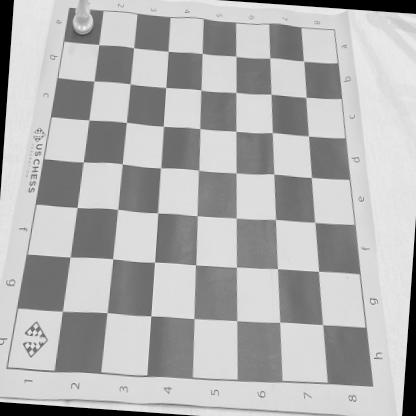knight: (71, 0, 98, 38)
